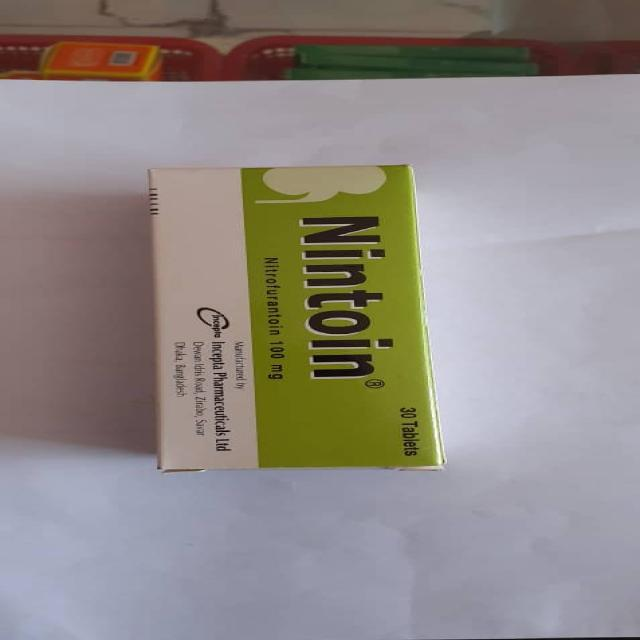drug-name: (296, 210, 398, 396)
